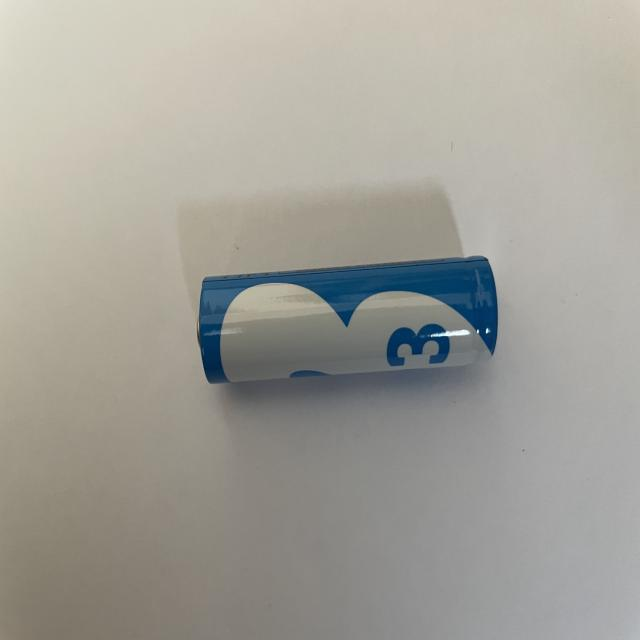AA: (196, 255, 500, 390)
